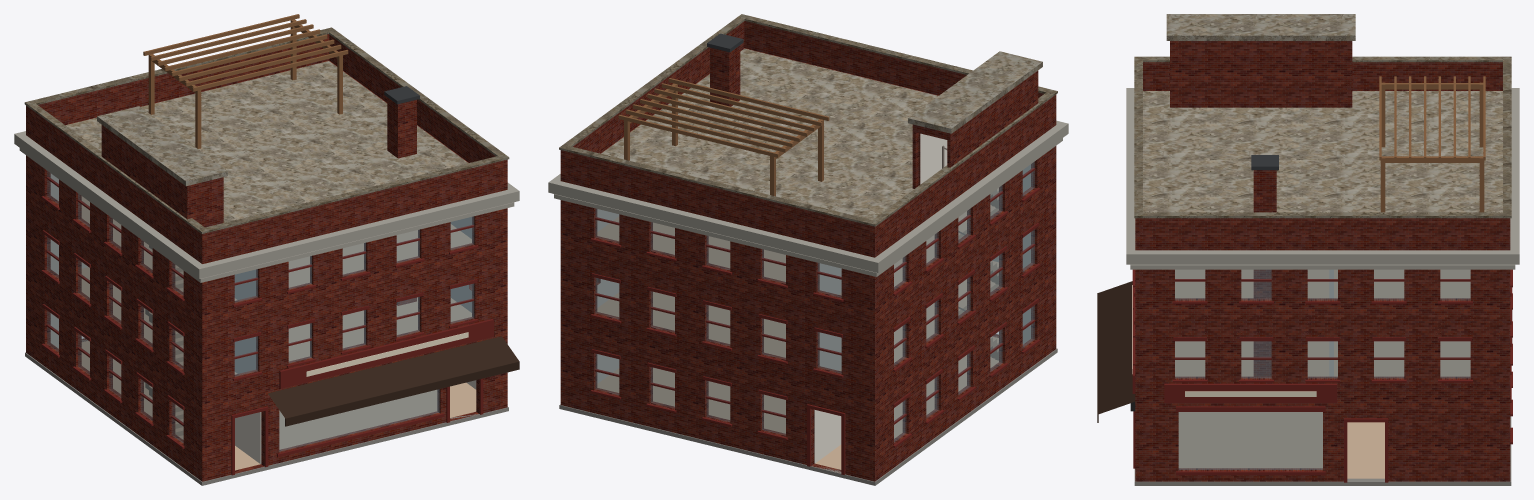
The model's file is mh-corner-tavern.towns-v1.lod0.glb.
3 renders of one model, left to right at view 1: azimuth 30°, elevation 25°; view 2: azimuth 150°, elevation 25°; view 3: azimuth 270°, elevation 25°, orthographic. The views are drawn at different scales.
Visible parts, largest first — view 1: mh-corner-tavern; view 2: mh-corner-tavern; view 3: mh-corner-tavern.
Boxes of the visible parts, left/top/right/bottom form: mh-corner-tavern: left=14, top=14, right=519, bottom=485; mh-corner-tavern: left=548, top=14, right=1068, bottom=485; mh-corner-tavern: left=1097, top=14, right=1519, bottom=485.
Size of the model in its own units: 13.64 by 11.95 by 14.64.
6 materials, 2 textured.
